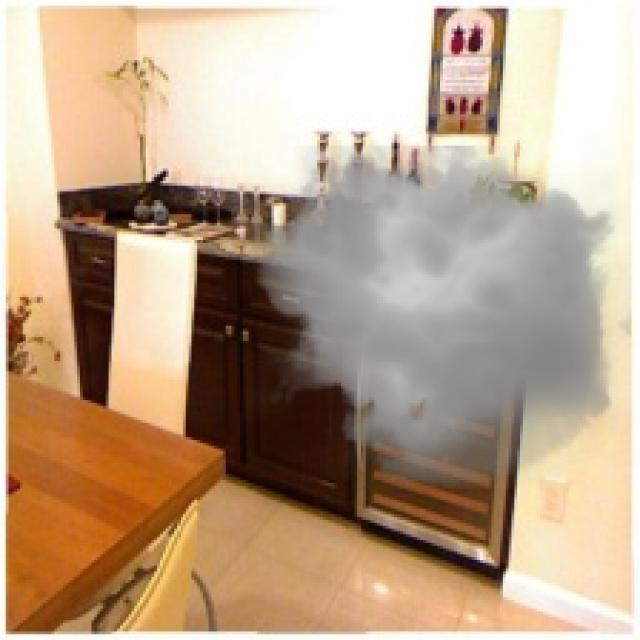Smoke: (243, 128, 632, 500)
